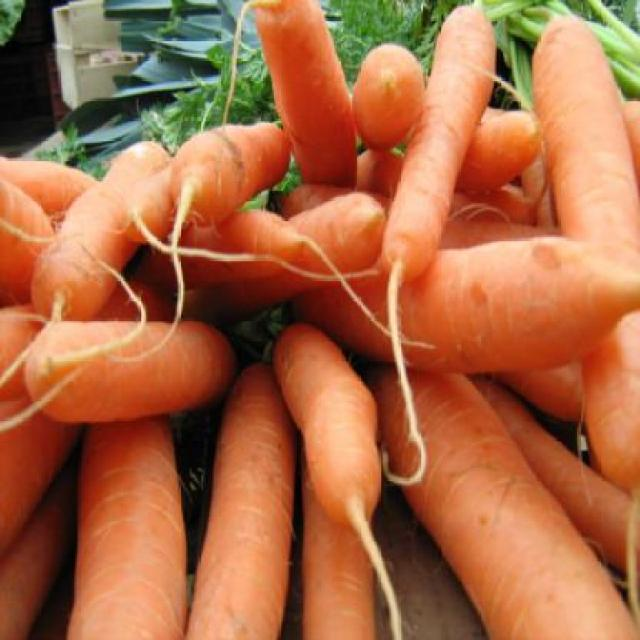Carrot: (0, 0, 638, 638), (268, 318, 403, 638)
